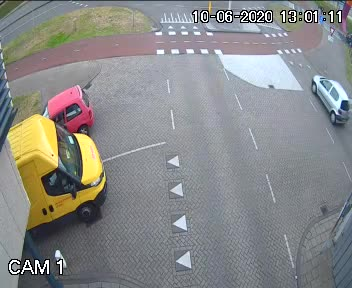car: (0, 125, 122, 230), (302, 68, 352, 124), (40, 87, 98, 133)
